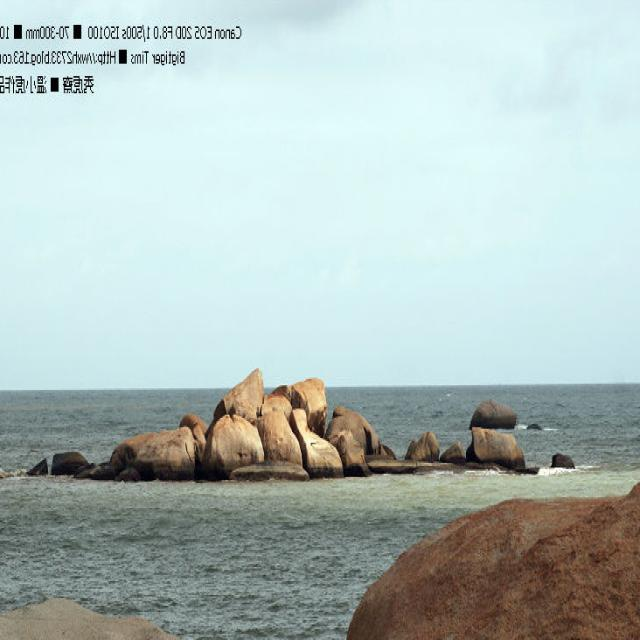reef: (27, 367, 575, 502)
